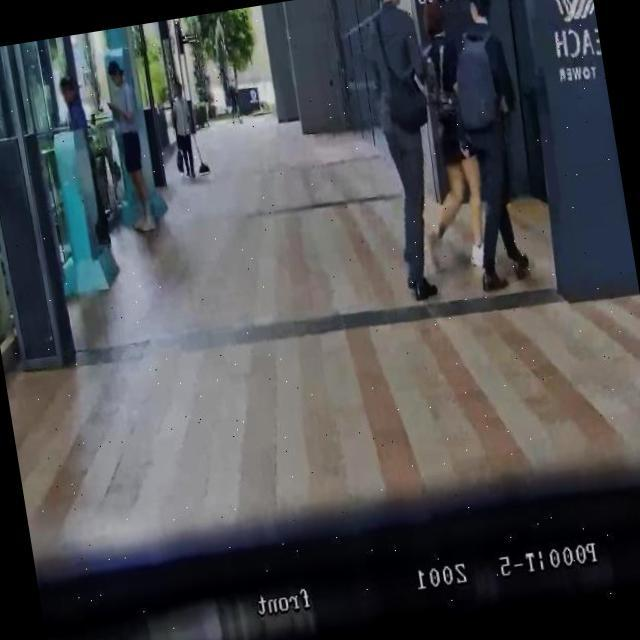person: (436, 0, 545, 293), (357, 0, 461, 303), (398, 0, 496, 278), (100, 58, 156, 236), (165, 78, 200, 180), (59, 74, 89, 134)
